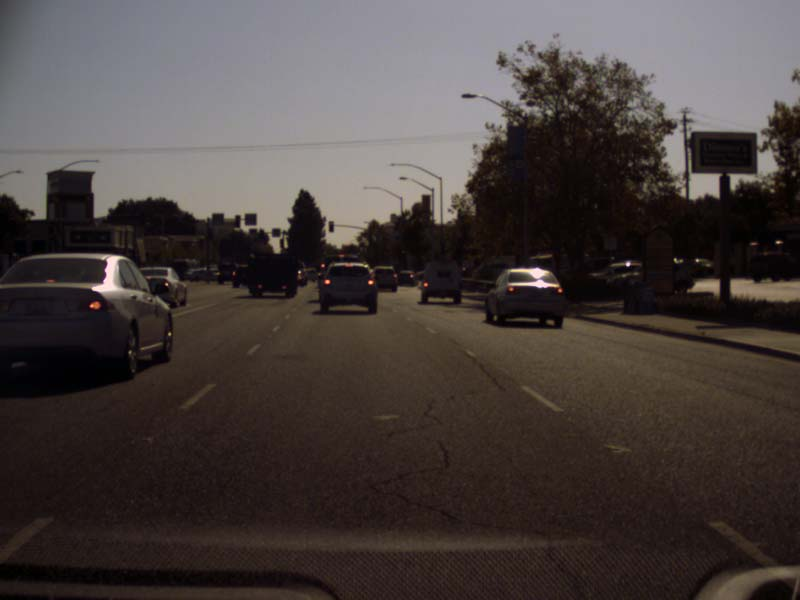Red: (327, 221, 334, 232)
